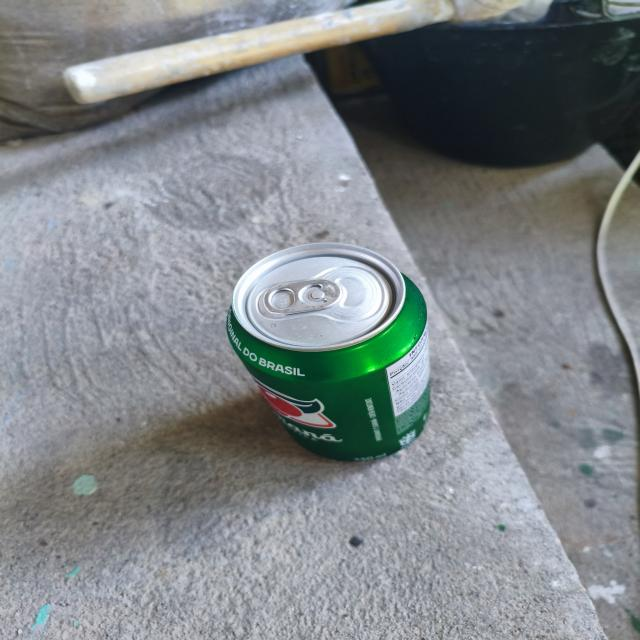Guarana: (213, 235, 450, 488)
